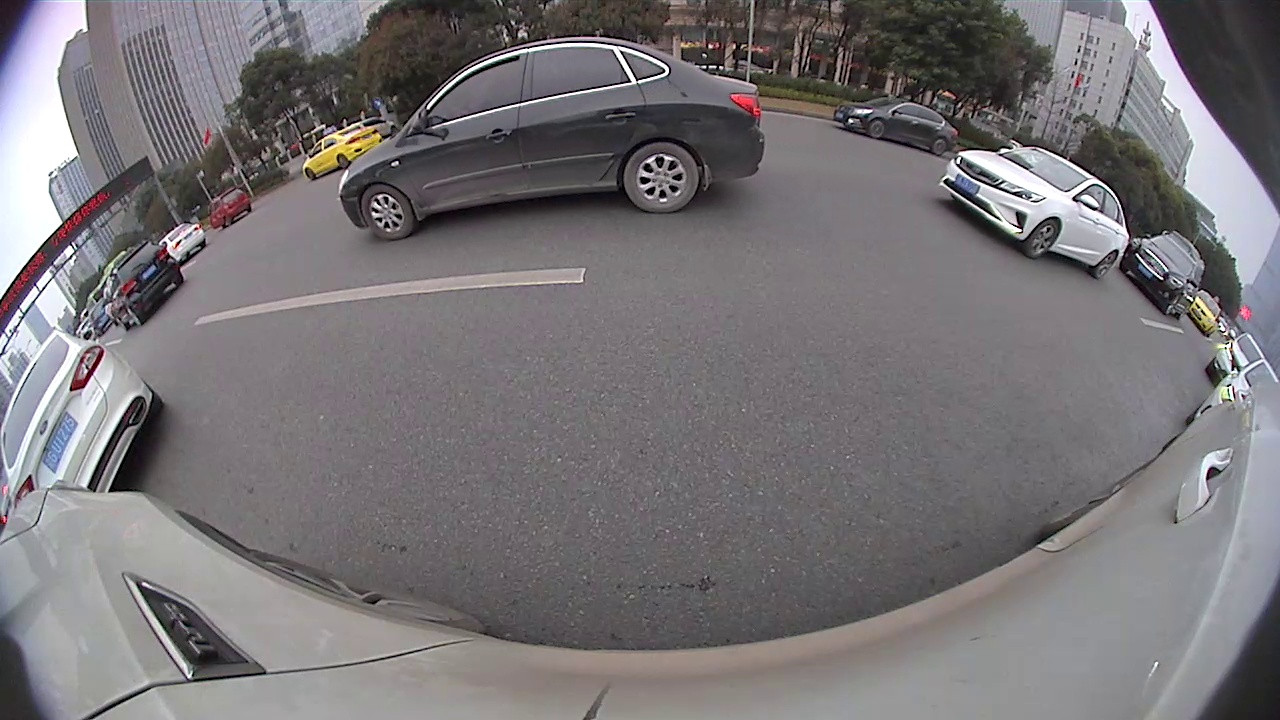car: (339, 34, 767, 244), (0, 326, 168, 507), (937, 140, 1130, 281), (106, 236, 186, 335), (833, 99, 964, 156), (1125, 233, 1202, 319), (299, 122, 381, 186)
front: (358, 183, 415, 243), (1025, 217, 1059, 260), (867, 118, 886, 140)
rear: (621, 141, 700, 213), (1093, 251, 1118, 280), (932, 138, 946, 153)
